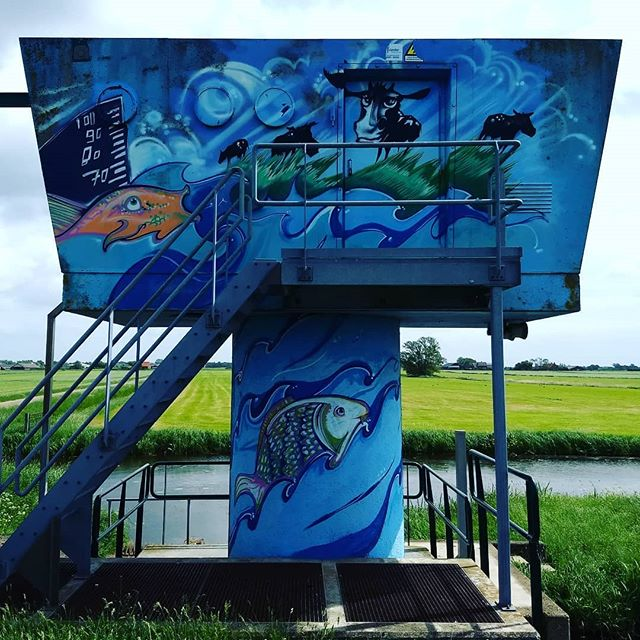building: (18, 34, 624, 550)
graffiti: (39, 42, 601, 283), (230, 322, 403, 552)
